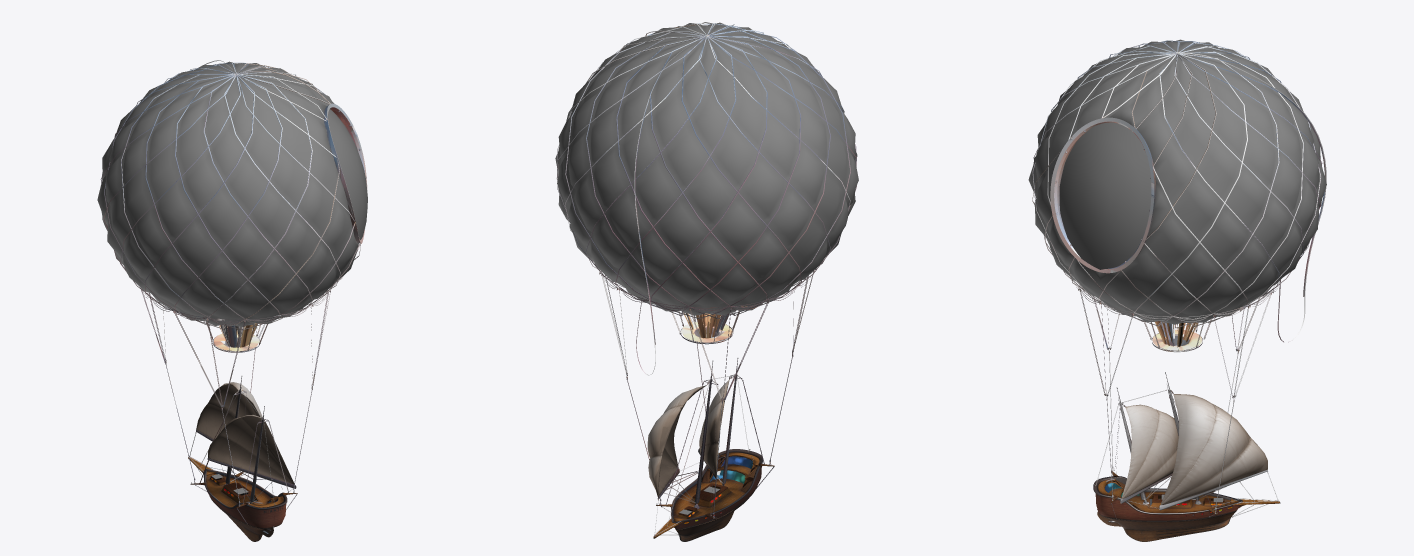
The model's file is 7562_niantic_lightship_mst_v04et.fbx.
3 views of the same model, side by side, from view 1: azimuth 30°, elevation 25°; view 2: azimuth 150°, elevation 25°; view 3: azimuth 270°, elevation 25° (orthographic). The views are drawn at different scales.
Visible parts, largest first — view 1: Balloon_Skin, lights_rigging (2), sails, wood (2), glass_windows; view 2: Balloon_Skin, lights_rigging (2), wood (2), sails; view 3: Balloon_Skin, lights_rigging (2), glass_windows, sails, wood (2).
Part boxes in pixels (<box>): Balloon_Skin: <box>97,61,358,327</box>; lights_rigging (2): <box>100,60,367,533</box>; sails: <box>196,382,294,484</box>; wood (2): <box>188,457,297,541</box>; glass_windows: <box>191,109,367,526</box>; Balloon_Skin: <box>555,22,858,315</box>; lights_rigging (2): <box>556,22,856,538</box>; wood (2): <box>653,449,774,541</box>; sails: <box>647,379,729,497</box>; Balloon_Skin: <box>1028,39,1326,324</box>; lights_rigging (2): <box>1032,40,1326,522</box>; glass_windows: <box>1059,122,1280,513</box>; sails: <box>1121,394,1267,505</box>; wood (2): <box>1093,471,1279,541</box>.
Size of the model in its own units: 957 by 1136 by 934.
5 materials, 3 textured.
